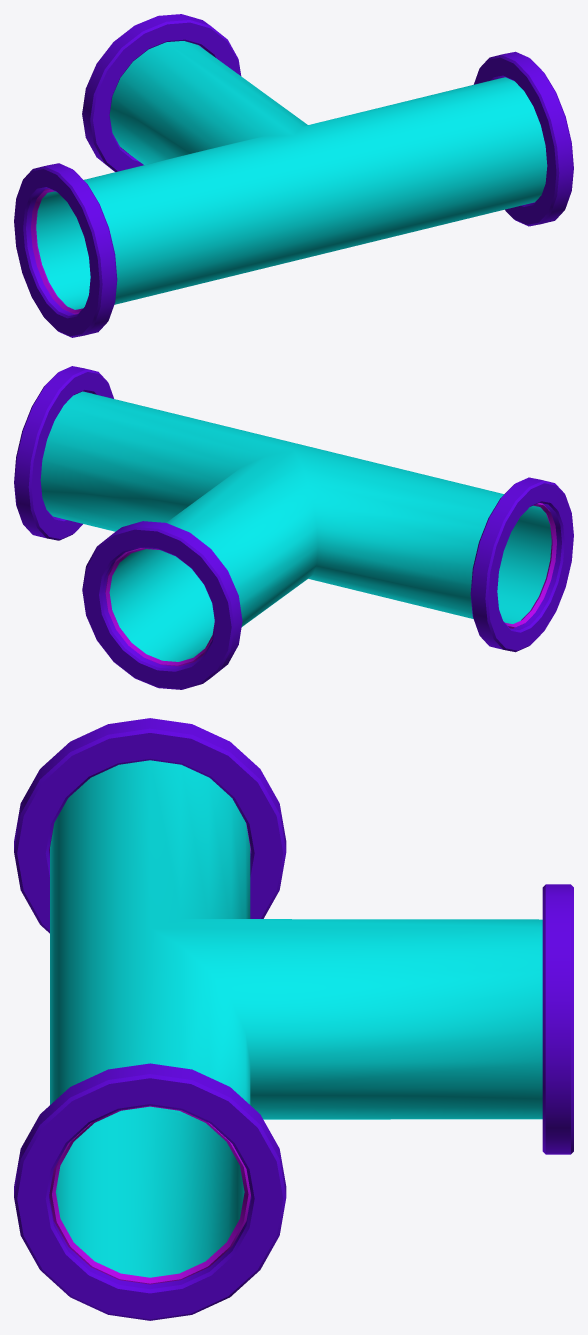
File: T Junction.fbx
The picture shows the model from 3 angles, top to bottom: view 1: azimuth 30°, elevation 25°; view 2: azimuth 150°, elevation 25°; view 3: azimuth 270°, elevation 25°; orthographic projection. The views are drawn at different scales.
Visible parts, largest first — view 1: SmartCombine_10; view 2: SmartCombine_10; view 3: SmartCombine_10.
Part boxes in pixels (box(x1,y1,x2,y2)): SmartCombine_10: box(14, 14, 573, 337); SmartCombine_10: box(14, 366, 573, 689); SmartCombine_10: box(14, 718, 573, 1320).
Bounding box in the file's own units: 77.87 × 25 × 51.4.
